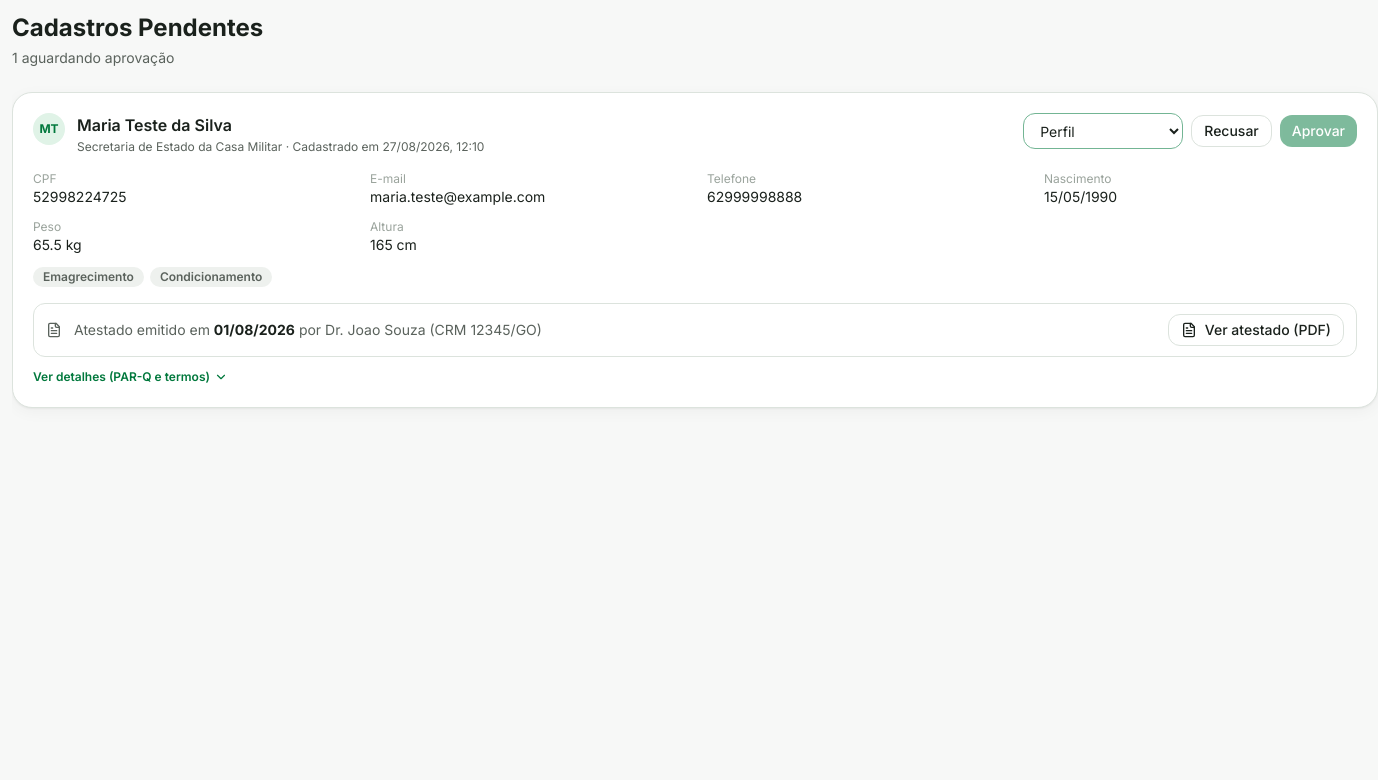
PendingRegistrations - listagem › esconde o questionário PAR-Q até clicar em 'ver detalhes'
Expected: the text "Maria Teste da Silva" is shown, [77,113,232,137]
Expected: the text "Questionário PAR-Q" is not shown
Click the button "Ver detalhes (PAR-Q e termos)" at point(130, 377), box [33,369,228,385]
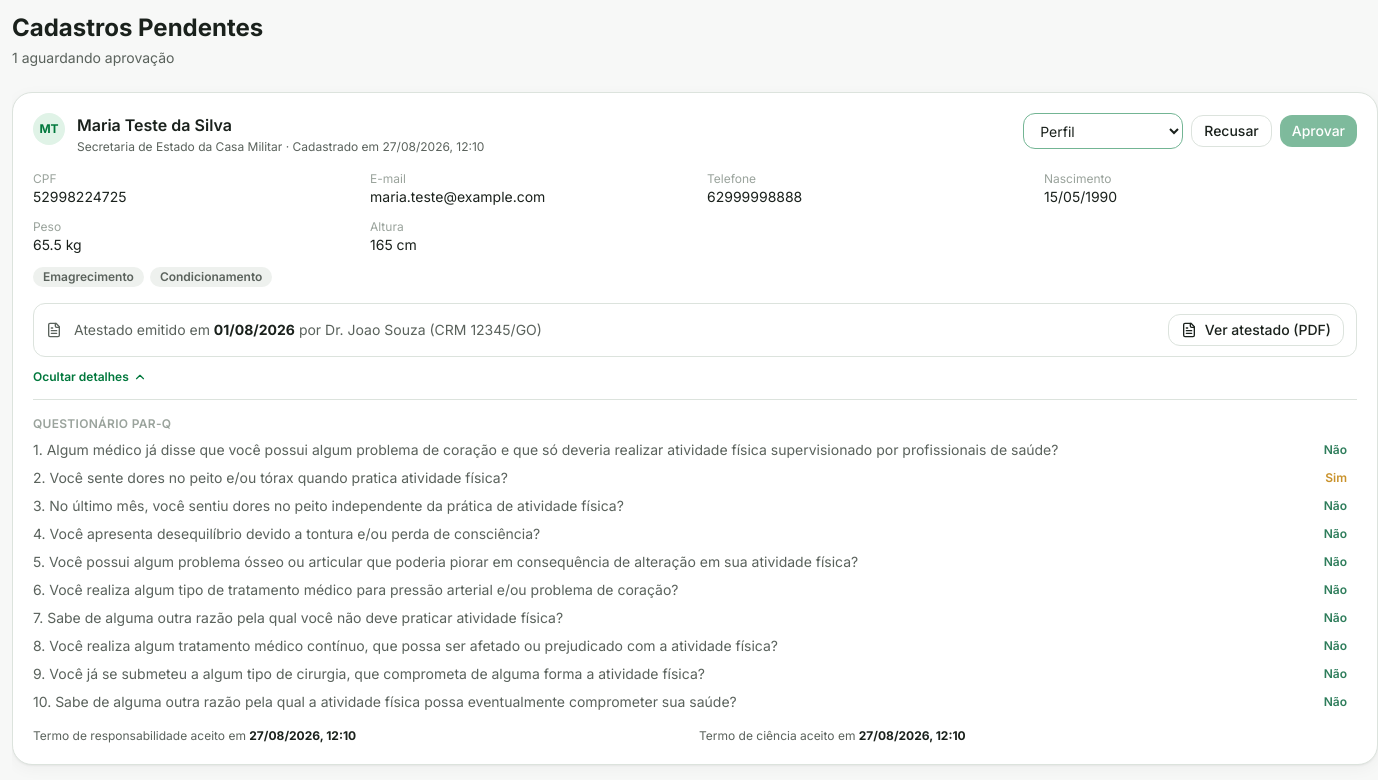
Now the text "Questionário PAR-Q" is shown, box [33,416,171,431]
Now the text "Você sente dores no peito e/ou tórax quando pratica atividade física" is shown, box [33,469,508,486]
